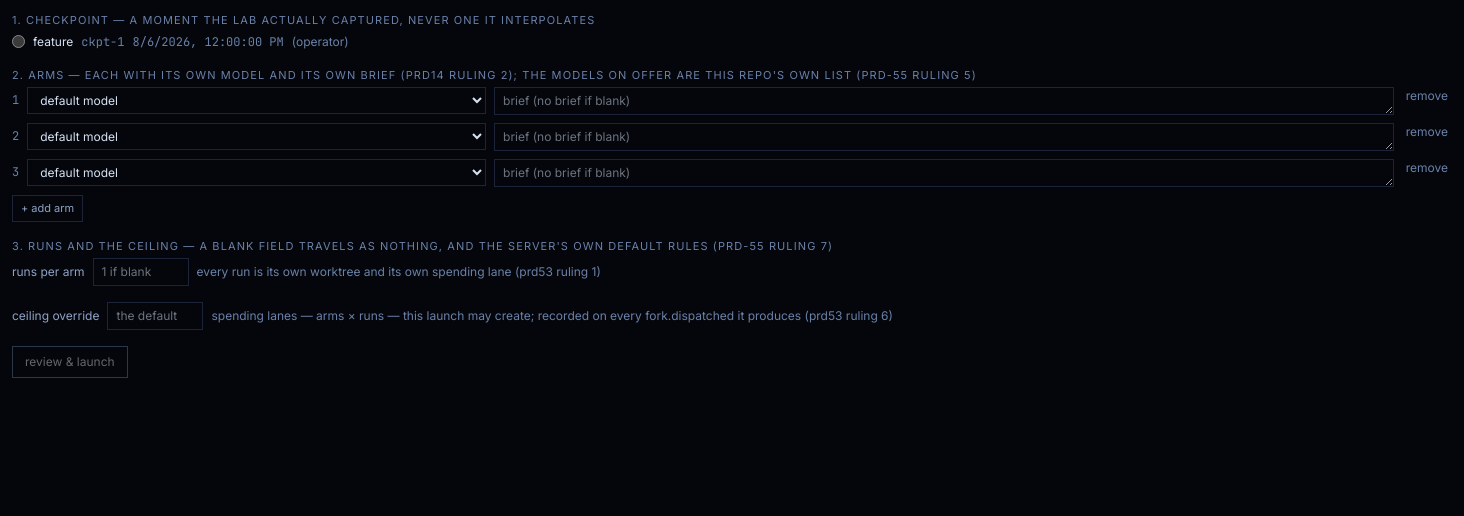
Scenario: LaunchPanel › the ONE confirm click launches, sending each arm its own model and brief, and tells the workspace what was asked for
The image size is (1464, 516).
Expected: the text "feature ckpt-1 8/6/2026, 12:00:00 PM (operator)" is shown, [12,34,349,50]
Click the radio button labelled "feature ckpt-1 8/6/2026, 12:00:00 PM (operator)": (18, 42) [12,35,25,48]
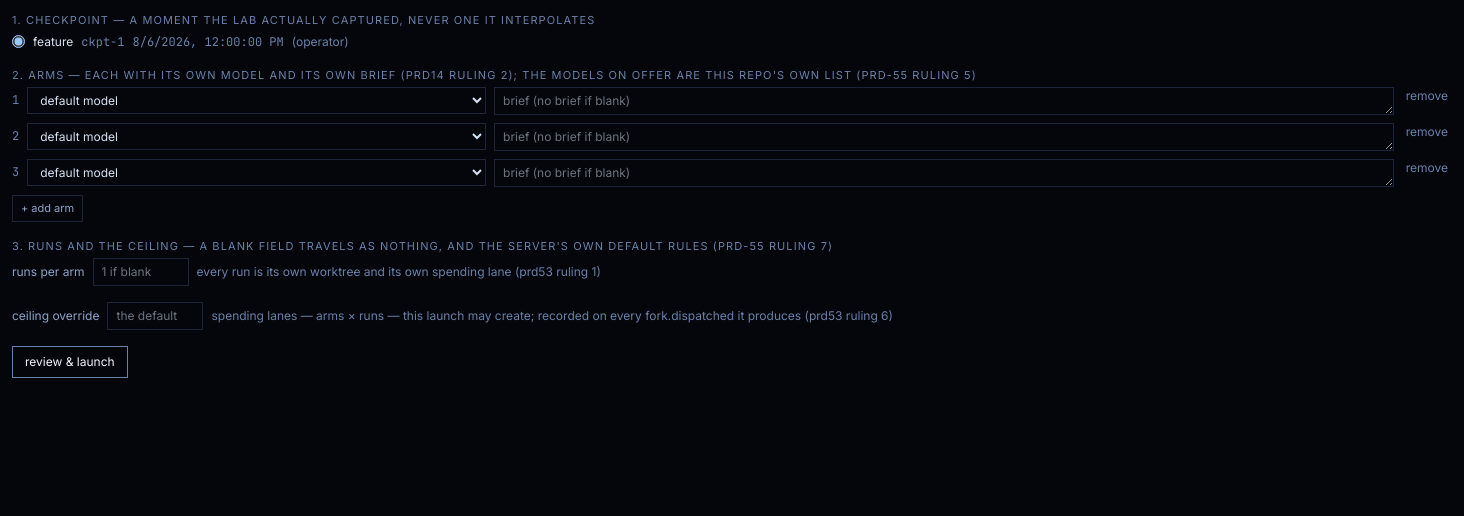
Select "opus" in the dropdown named "arm 1 model": (257, 100) [27,87,486,114]
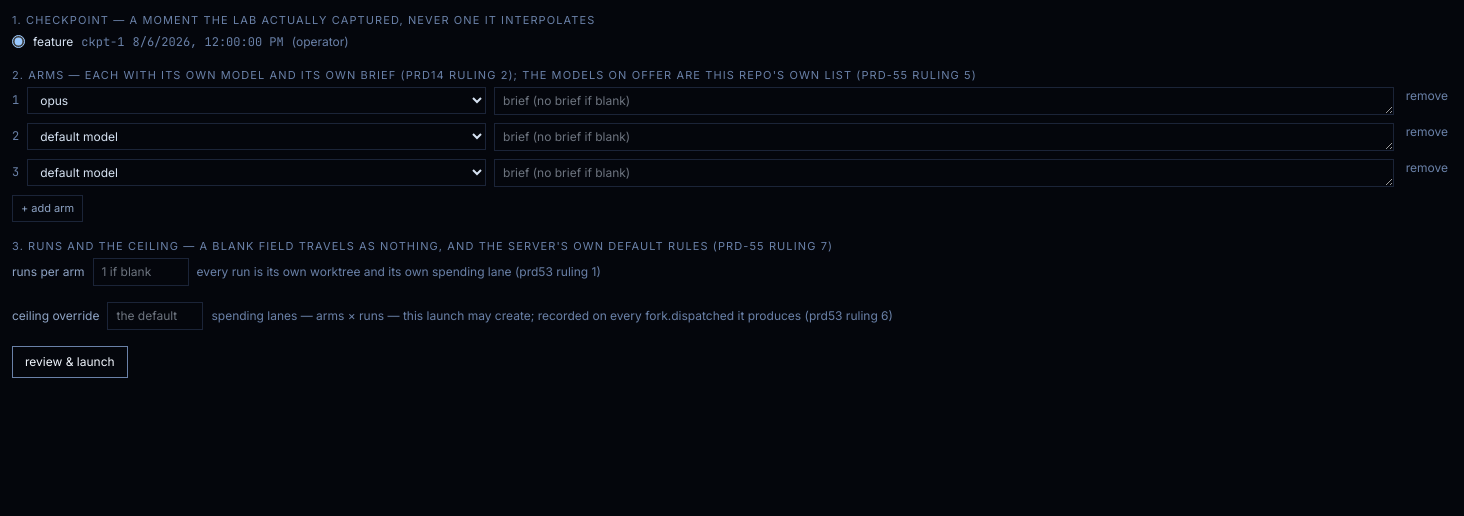
In the 1st text box with placeholder "brief (no brief if blank)": (944, 101) [494,87,1394,115], type "try the aggressive refactor"
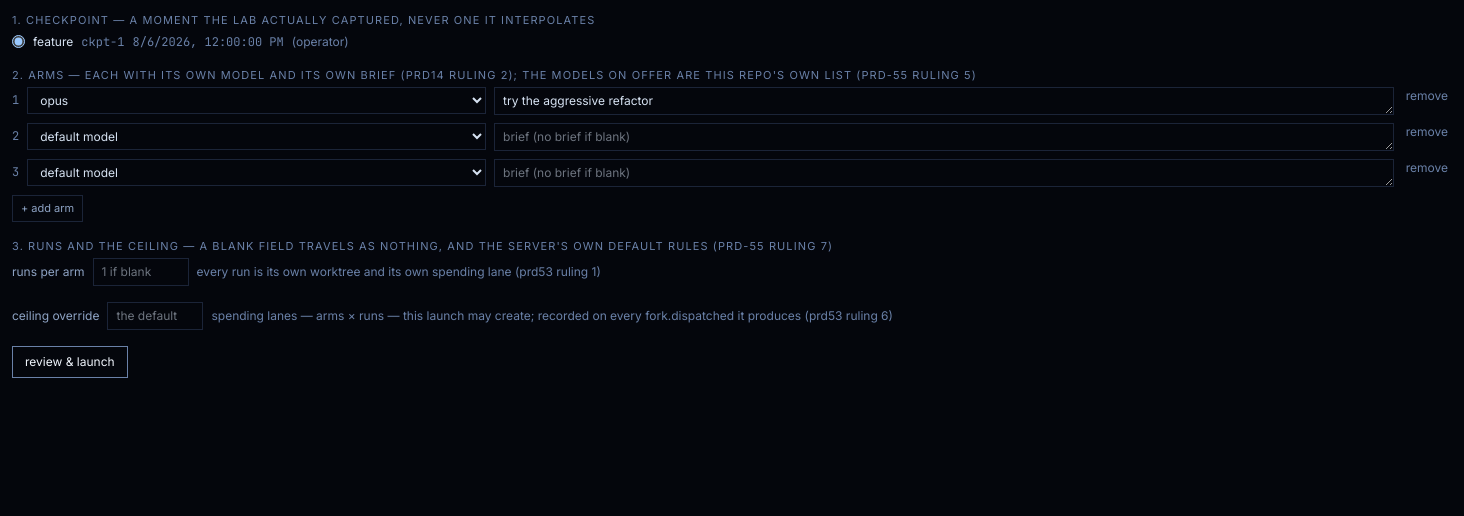
Select "sonnet" in the dropdown named "arm 2 model": (257, 136) [27,123,486,150]
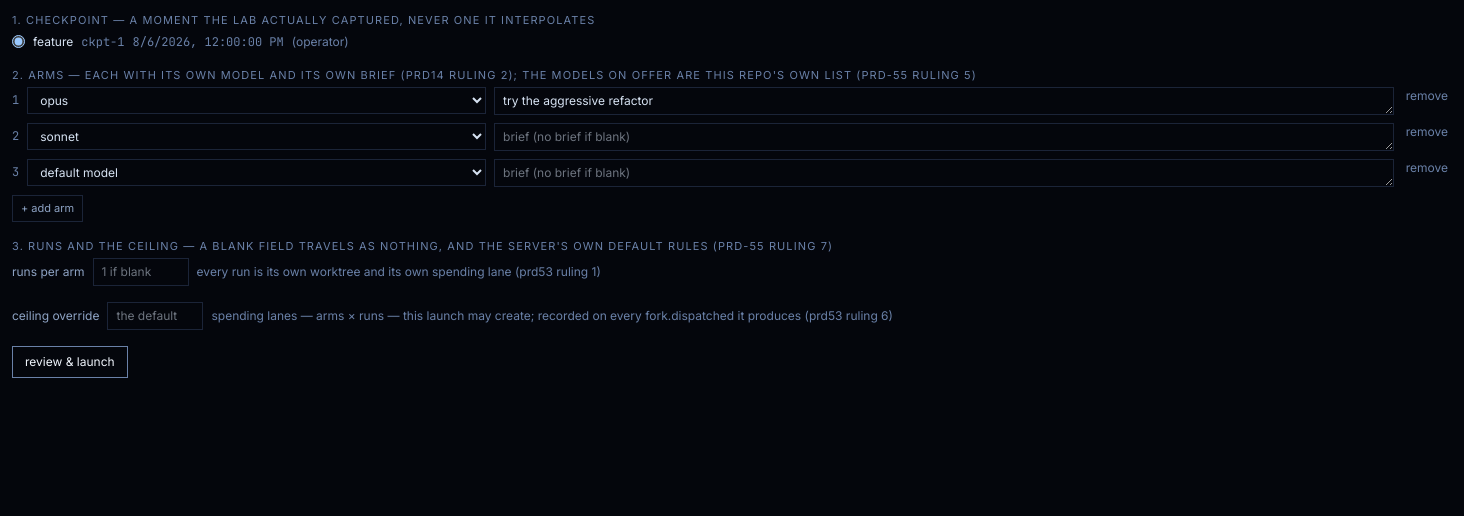
Click the button with test id "launch-review": (70, 362) [12,346,128,378]
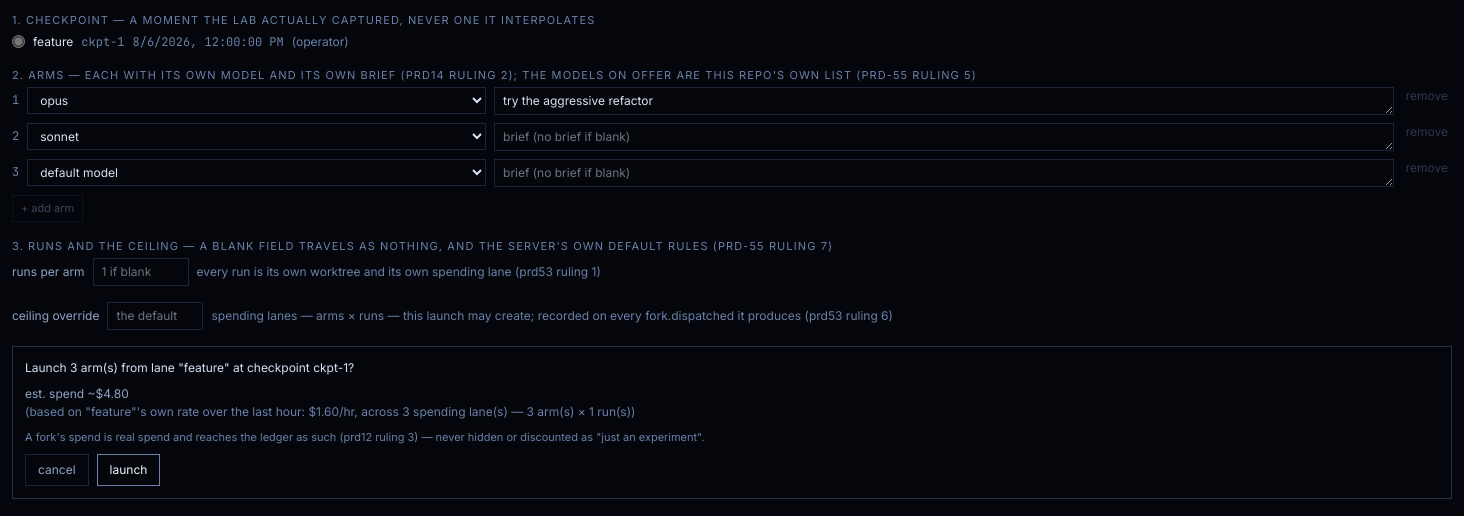
Expected: the element with test id "launch-confirm-dialog" is shown, [12,346,1452,498]
Click the button with test id "launch-confirm": (128, 470) [97,454,160,486]
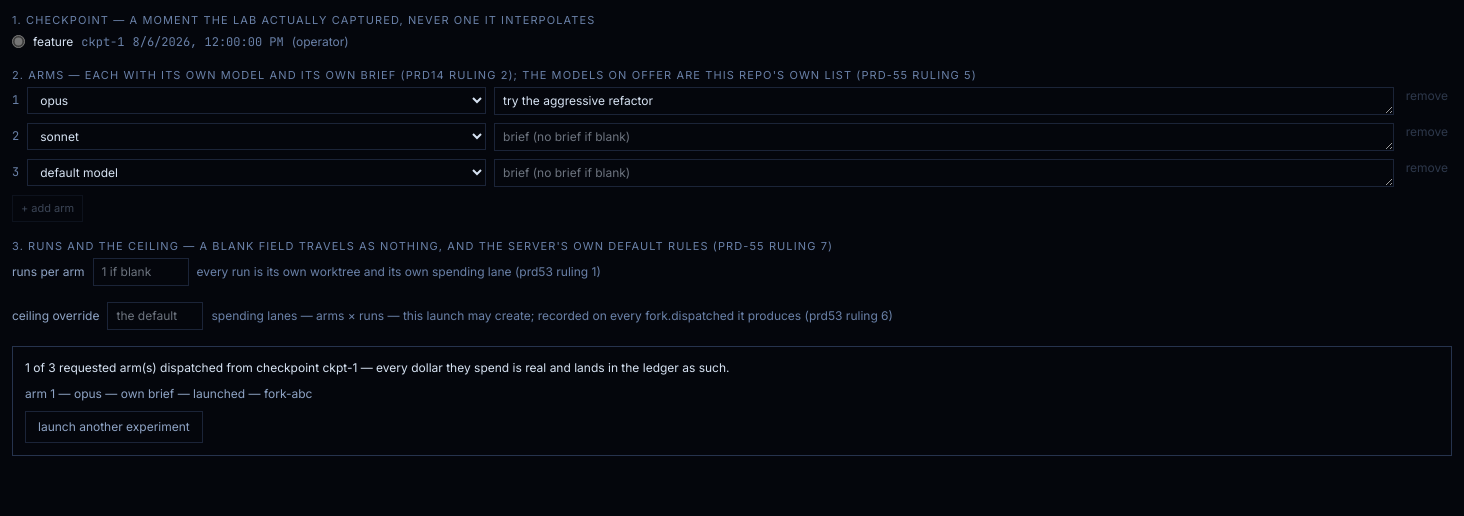
Expected: the list item with test id "launch-result-arm-1" shows "opus", [74,386,102,401]
Expected: the element with test id "launch-result" shows "1 of 3 requested arm(s) dispatched", [12,346,1452,456]
